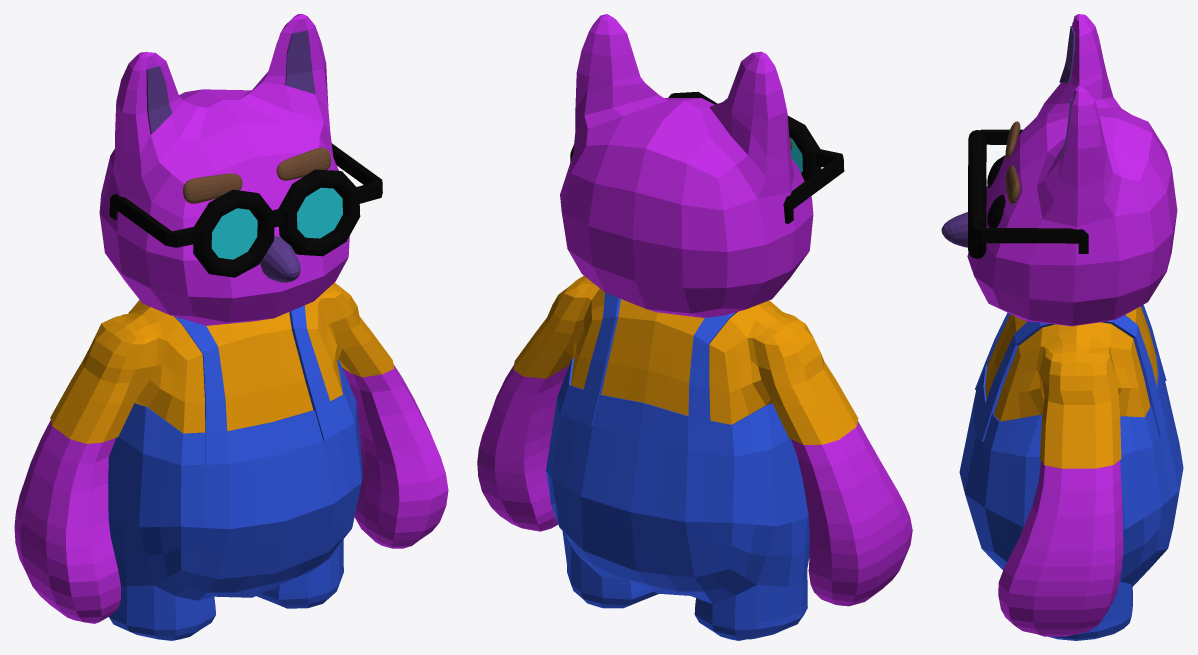
Rendered from Main_Char_v4-Refined-done-Joined.fbx.
3 views of the same model, side by side, from view 1: azimuth 30°, elevation 25°; view 2: azimuth 150°, elevation 25°; view 3: azimuth 270°, elevation 25° (orthographic). The views are drawn at different scales.
Parts seen in each view (by area): view 1: head; view 2: head; view 3: head.
Part boxes in pixels (x1,y1,x2,y2): head: [14, 14, 448, 640]; head: [477, 14, 912, 640]; head: [941, 14, 1183, 640].
Bounding box in the file's own units: 271 × 378 × 151.
